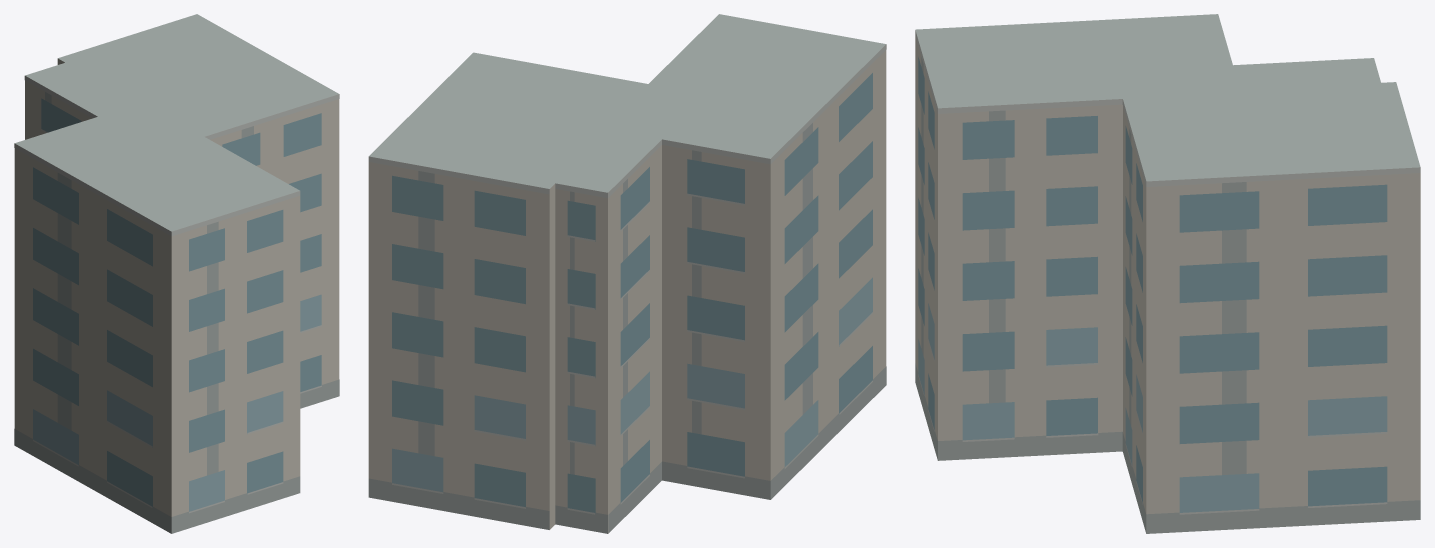
The model's file is residential-a9586040-ef48-42ca-9227-0e5a77cc6e95.glb.
3 renders of one model, left to right at view 1: azimuth 30°, elevation 25°; view 2: azimuth 150°, elevation 25°; view 3: azimuth 270°, elevation 25°, orthographic. The views are drawn at different scales.
Parts seen in each view (by area): view 1: residential-a9586040-ef48-42ca-9227-0e5a77cc6e95.tmp; view 2: residential-a9586040-ef48-42ca-9227-0e5a77cc6e95.tmp; view 3: residential-a9586040-ef48-42ca-9227-0e5a77cc6e95.tmp.
Part boxes in pixels (bbox=[...]): residential-a9586040-ef48-42ca-9227-0e5a77cc6e95.tmp: bbox=[14, 14, 339, 533]; residential-a9586040-ef48-42ca-9227-0e5a77cc6e95.tmp: bbox=[368, 14, 886, 533]; residential-a9586040-ef48-42ca-9227-0e5a77cc6e95.tmp: bbox=[915, 14, 1420, 533].
Bounding box in the file's own units: 15.54 × 15.25 × 19.83.
